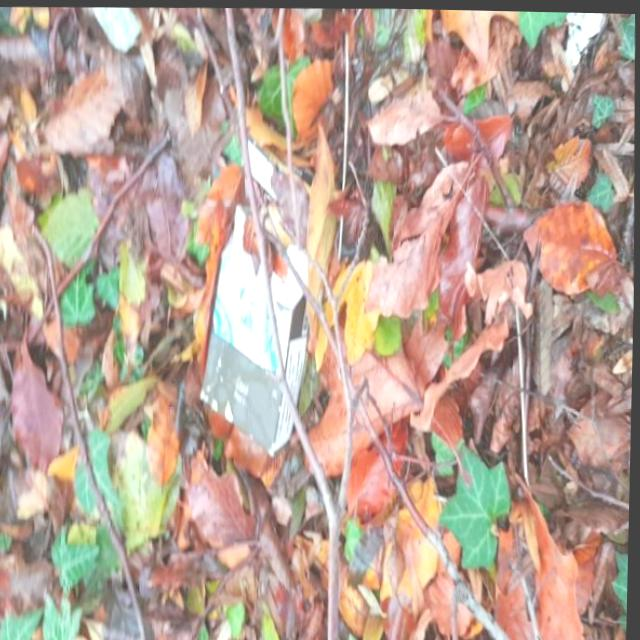Paper: (194, 129, 325, 459)
